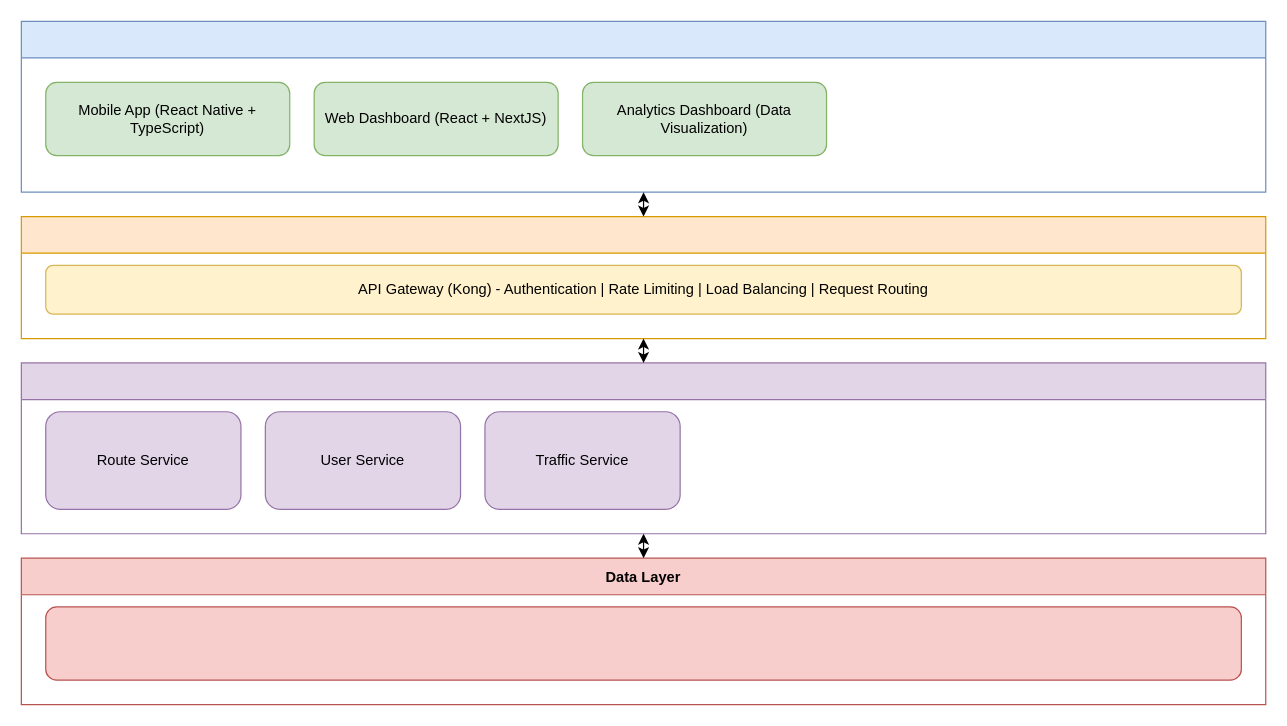
Some shapes in this 1287 by 726 pixel diagram are drawn without their labels. Each missing label, with the box of its shape:
API Gateway Layer: (20, 215, 1266, 339)
Databases (PostgreSQL, MongoDB, Redis): (45, 606, 1241, 680)
Presentation Layer: (20, 20, 1266, 192)
Service Layer: (20, 362, 1266, 534)
